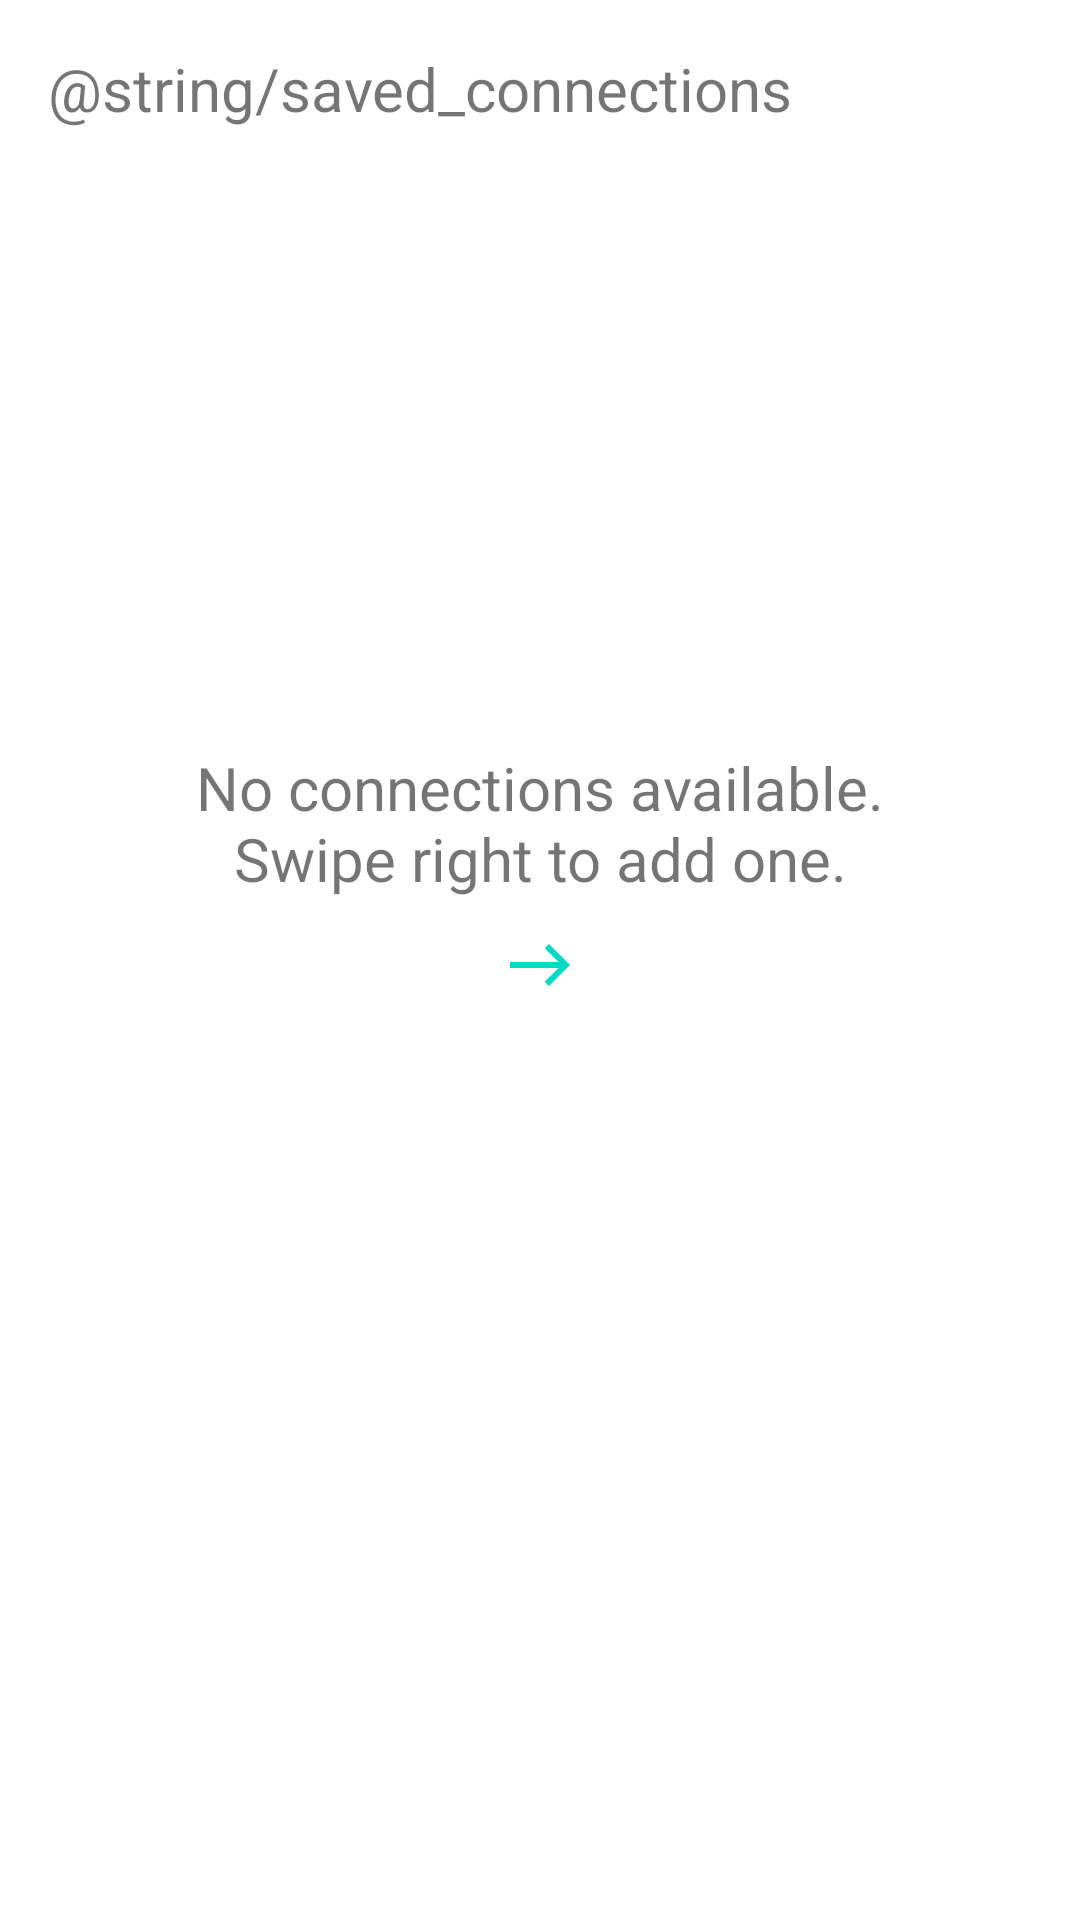

Icon bounding boxes for this 1080w x 1920h phone screenshot, format (x1, y1, x2, y2):
east: (510, 944, 570, 986)
